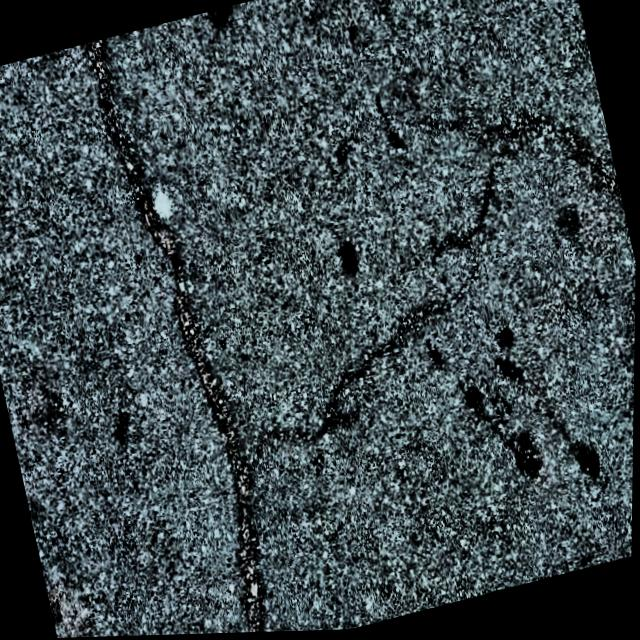Clogged Drains: (87, 39, 269, 634)
